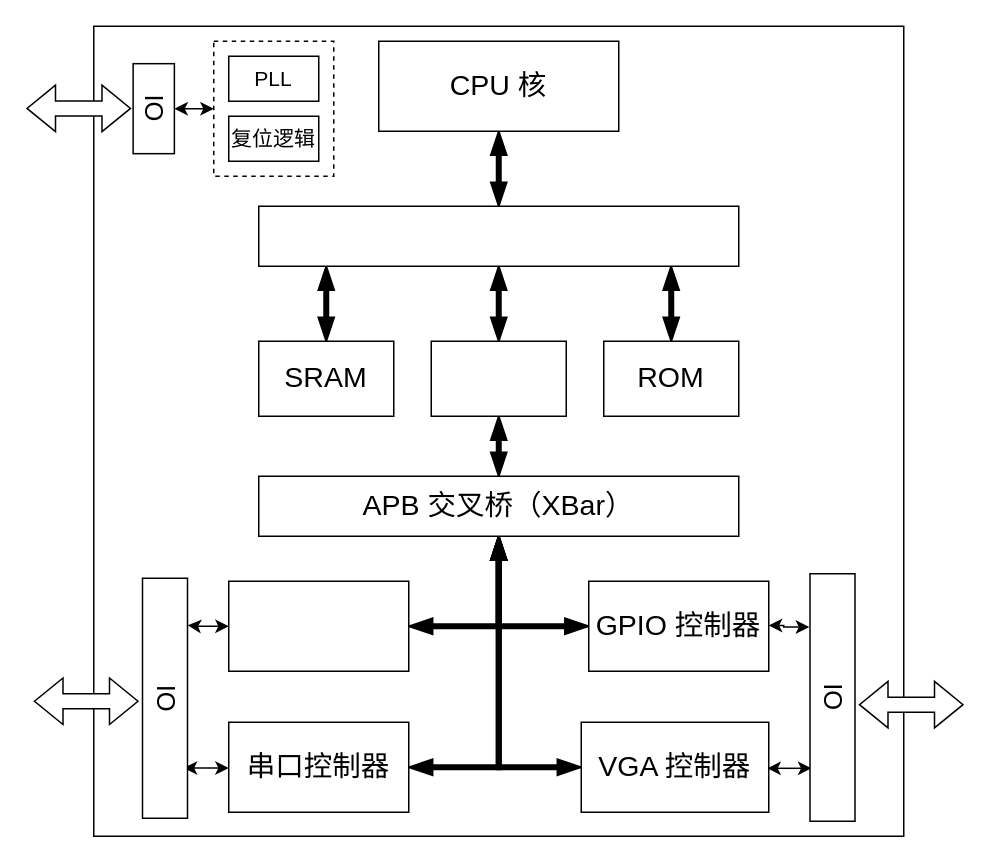
This 989x863 diagram has some shape labels left out. Each missing label, with the box of its shape:
AXI 交叉桥（XBar）: (257, 205, 739, 266)
AXI 转 APB: (430, 340, 566, 416)
SPI 控制器: (227, 580, 409, 671)
